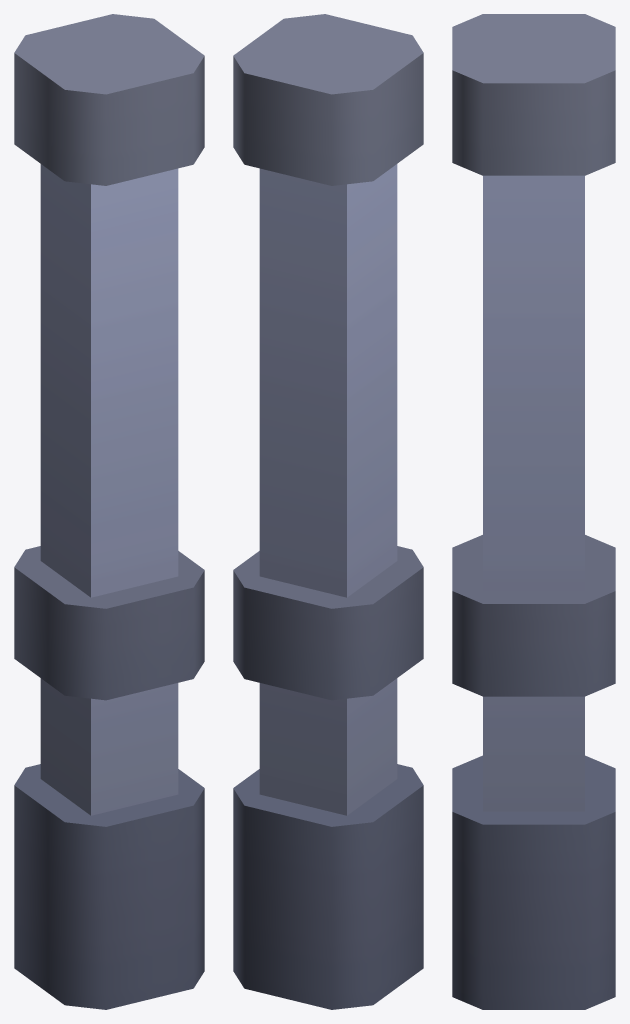
File: pelare.glb
3 views of the same model, side by side, from view 1: azimuth 30°, elevation 25°; view 2: azimuth 150°, elevation 25°; view 3: azimuth 270°, elevation 25° (orthographic).
Visible parts, largest first — view 1: pillar-stone; view 2: pillar-stone; view 3: pillar-stone.
Part boxes in pixels (left/top/right/bottom): pillar-stone: left=14, top=14, right=204, bottom=1009; pillar-stone: left=233, top=14, right=423, bottom=1009; pillar-stone: left=452, top=14, right=615, bottom=1009.
Bounding box in the file's own units: 0.16 × 1 × 0.16.
Materials: 1 (1 with a texture image).
